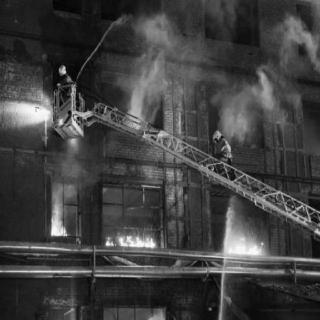Fire: (50, 211, 70, 239)
